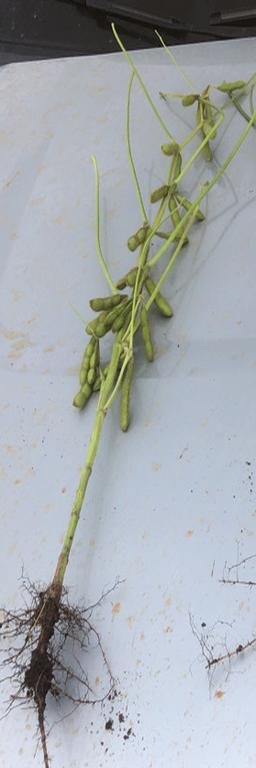pod: (70, 341, 103, 418), (140, 277, 175, 319), (169, 184, 189, 251), (118, 353, 130, 440), (77, 336, 93, 392), (141, 303, 154, 366), (85, 345, 102, 386), (86, 296, 135, 310), (121, 225, 147, 251), (210, 77, 247, 94)
soy: (1, 62, 256, 725)
